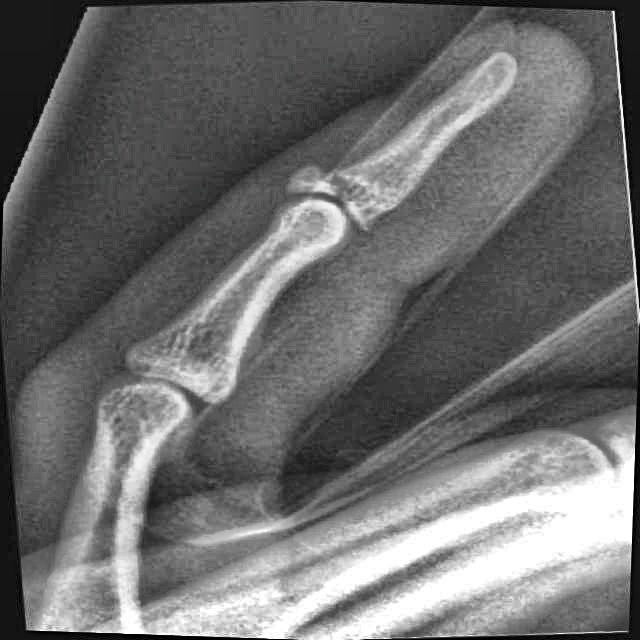Greenstick: (273, 164, 387, 234)
